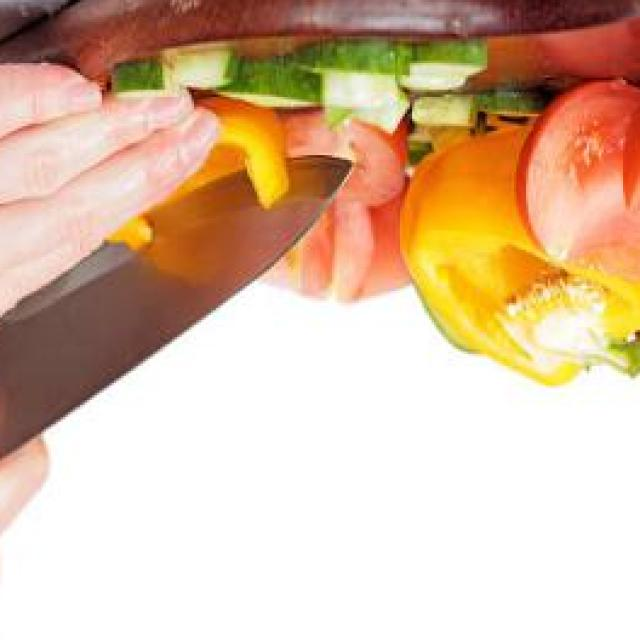knife: (0, 153, 357, 478)
